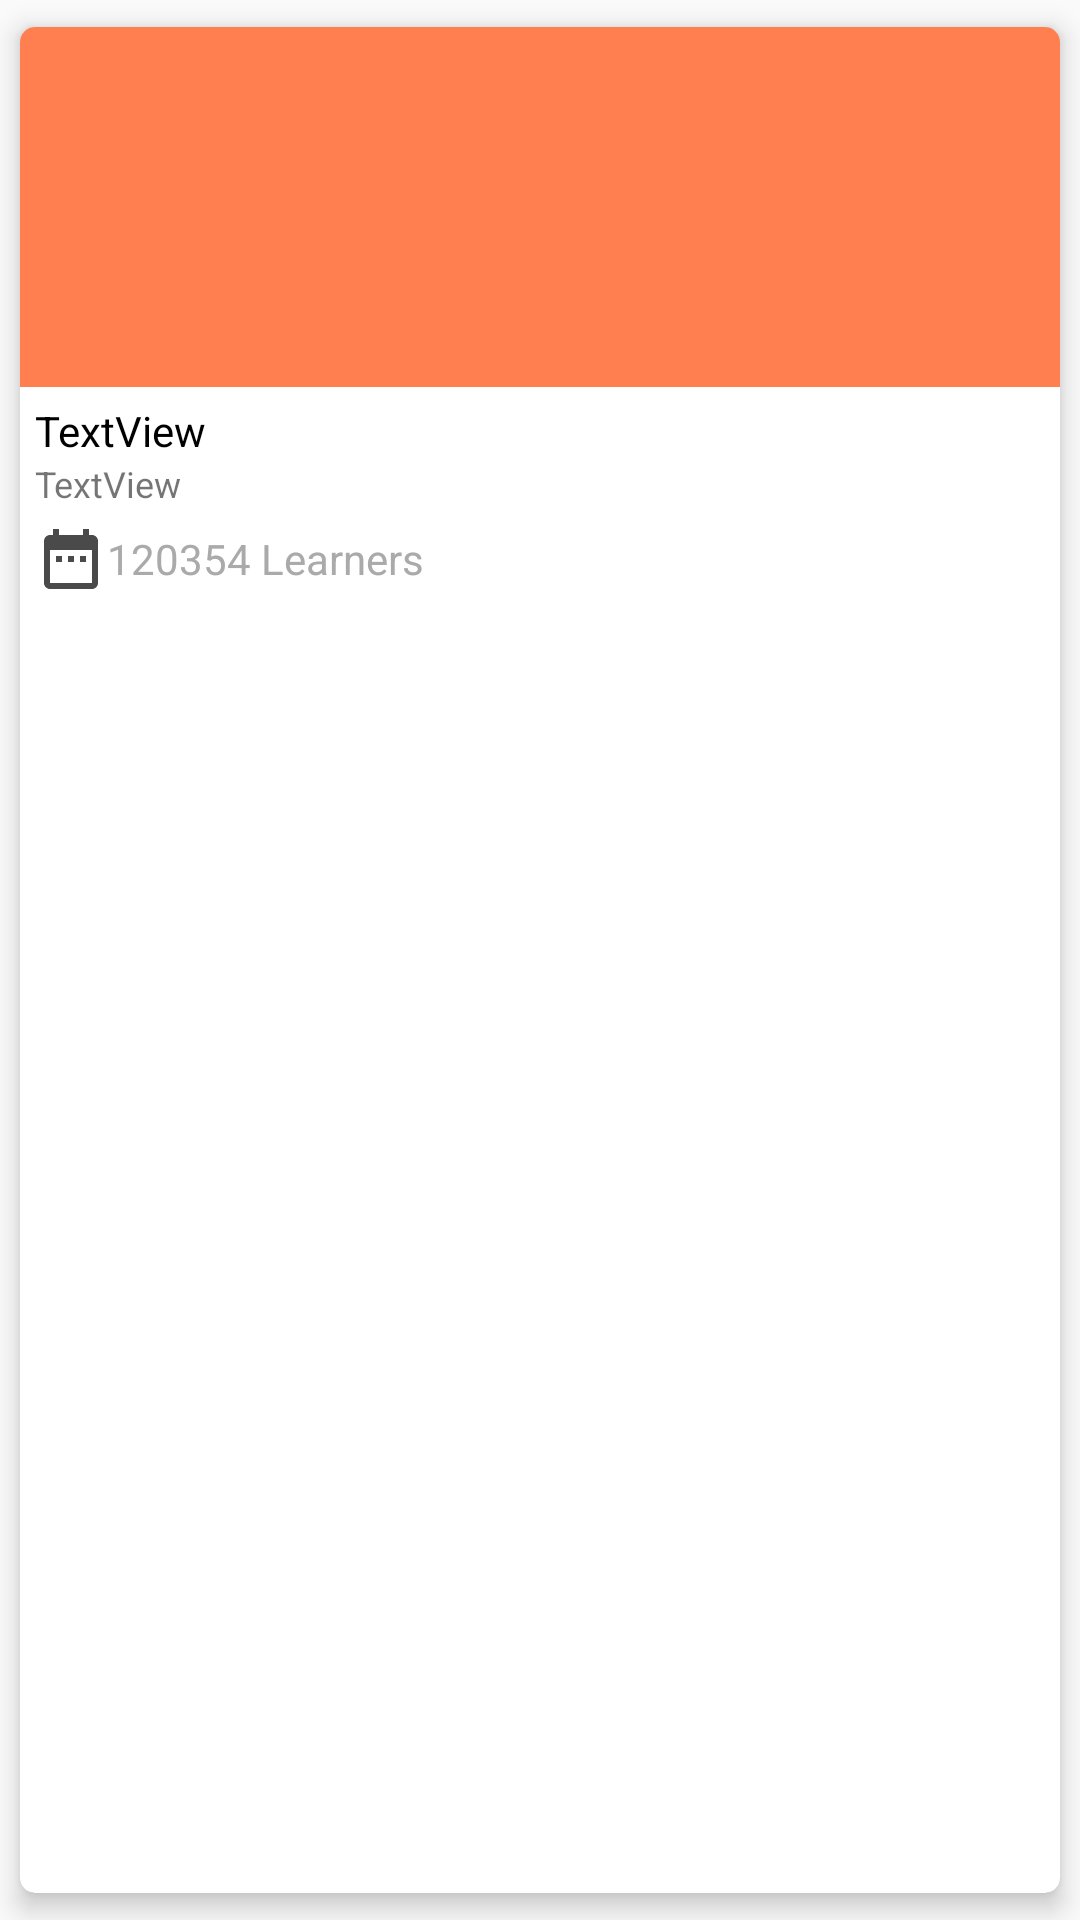

Where to tap for icons on this 1080×1920 app screen, as [x,y]:
date range: [71,559]
